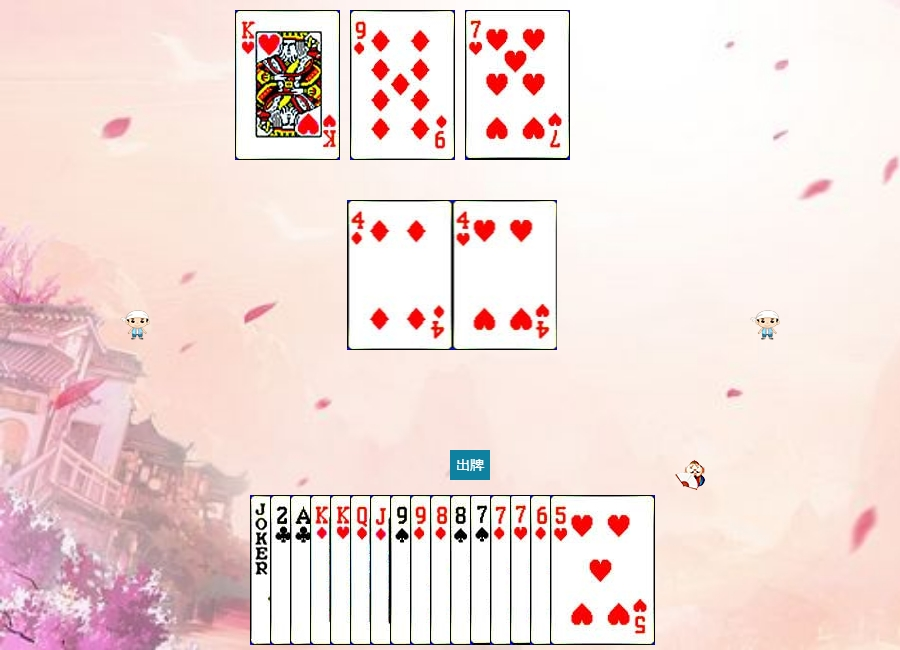11~1: (370, 495, 475, 645)
12~1: (350, 495, 455, 645)
13~1: (310, 495, 415, 645)
13~3: (235, 10, 340, 160), (330, 495, 435, 645)
14~2: (290, 495, 395, 645)
15~2: (270, 495, 375, 645)
17~3: (250, 495, 355, 645)
4~1: (348, 200, 453, 350)
4~3: (453, 200, 558, 350)
5~3: (550, 495, 655, 645)
6~1: (530, 495, 635, 645)
7~1: (490, 495, 595, 645)
7~3: (465, 10, 570, 160), (510, 495, 615, 645)
7~4: (470, 495, 575, 645)
8~1: (430, 495, 535, 645)
8~4: (450, 495, 555, 645)
9~1: (350, 10, 455, 160), (410, 495, 515, 645)
9~4: (390, 495, 495, 645)
